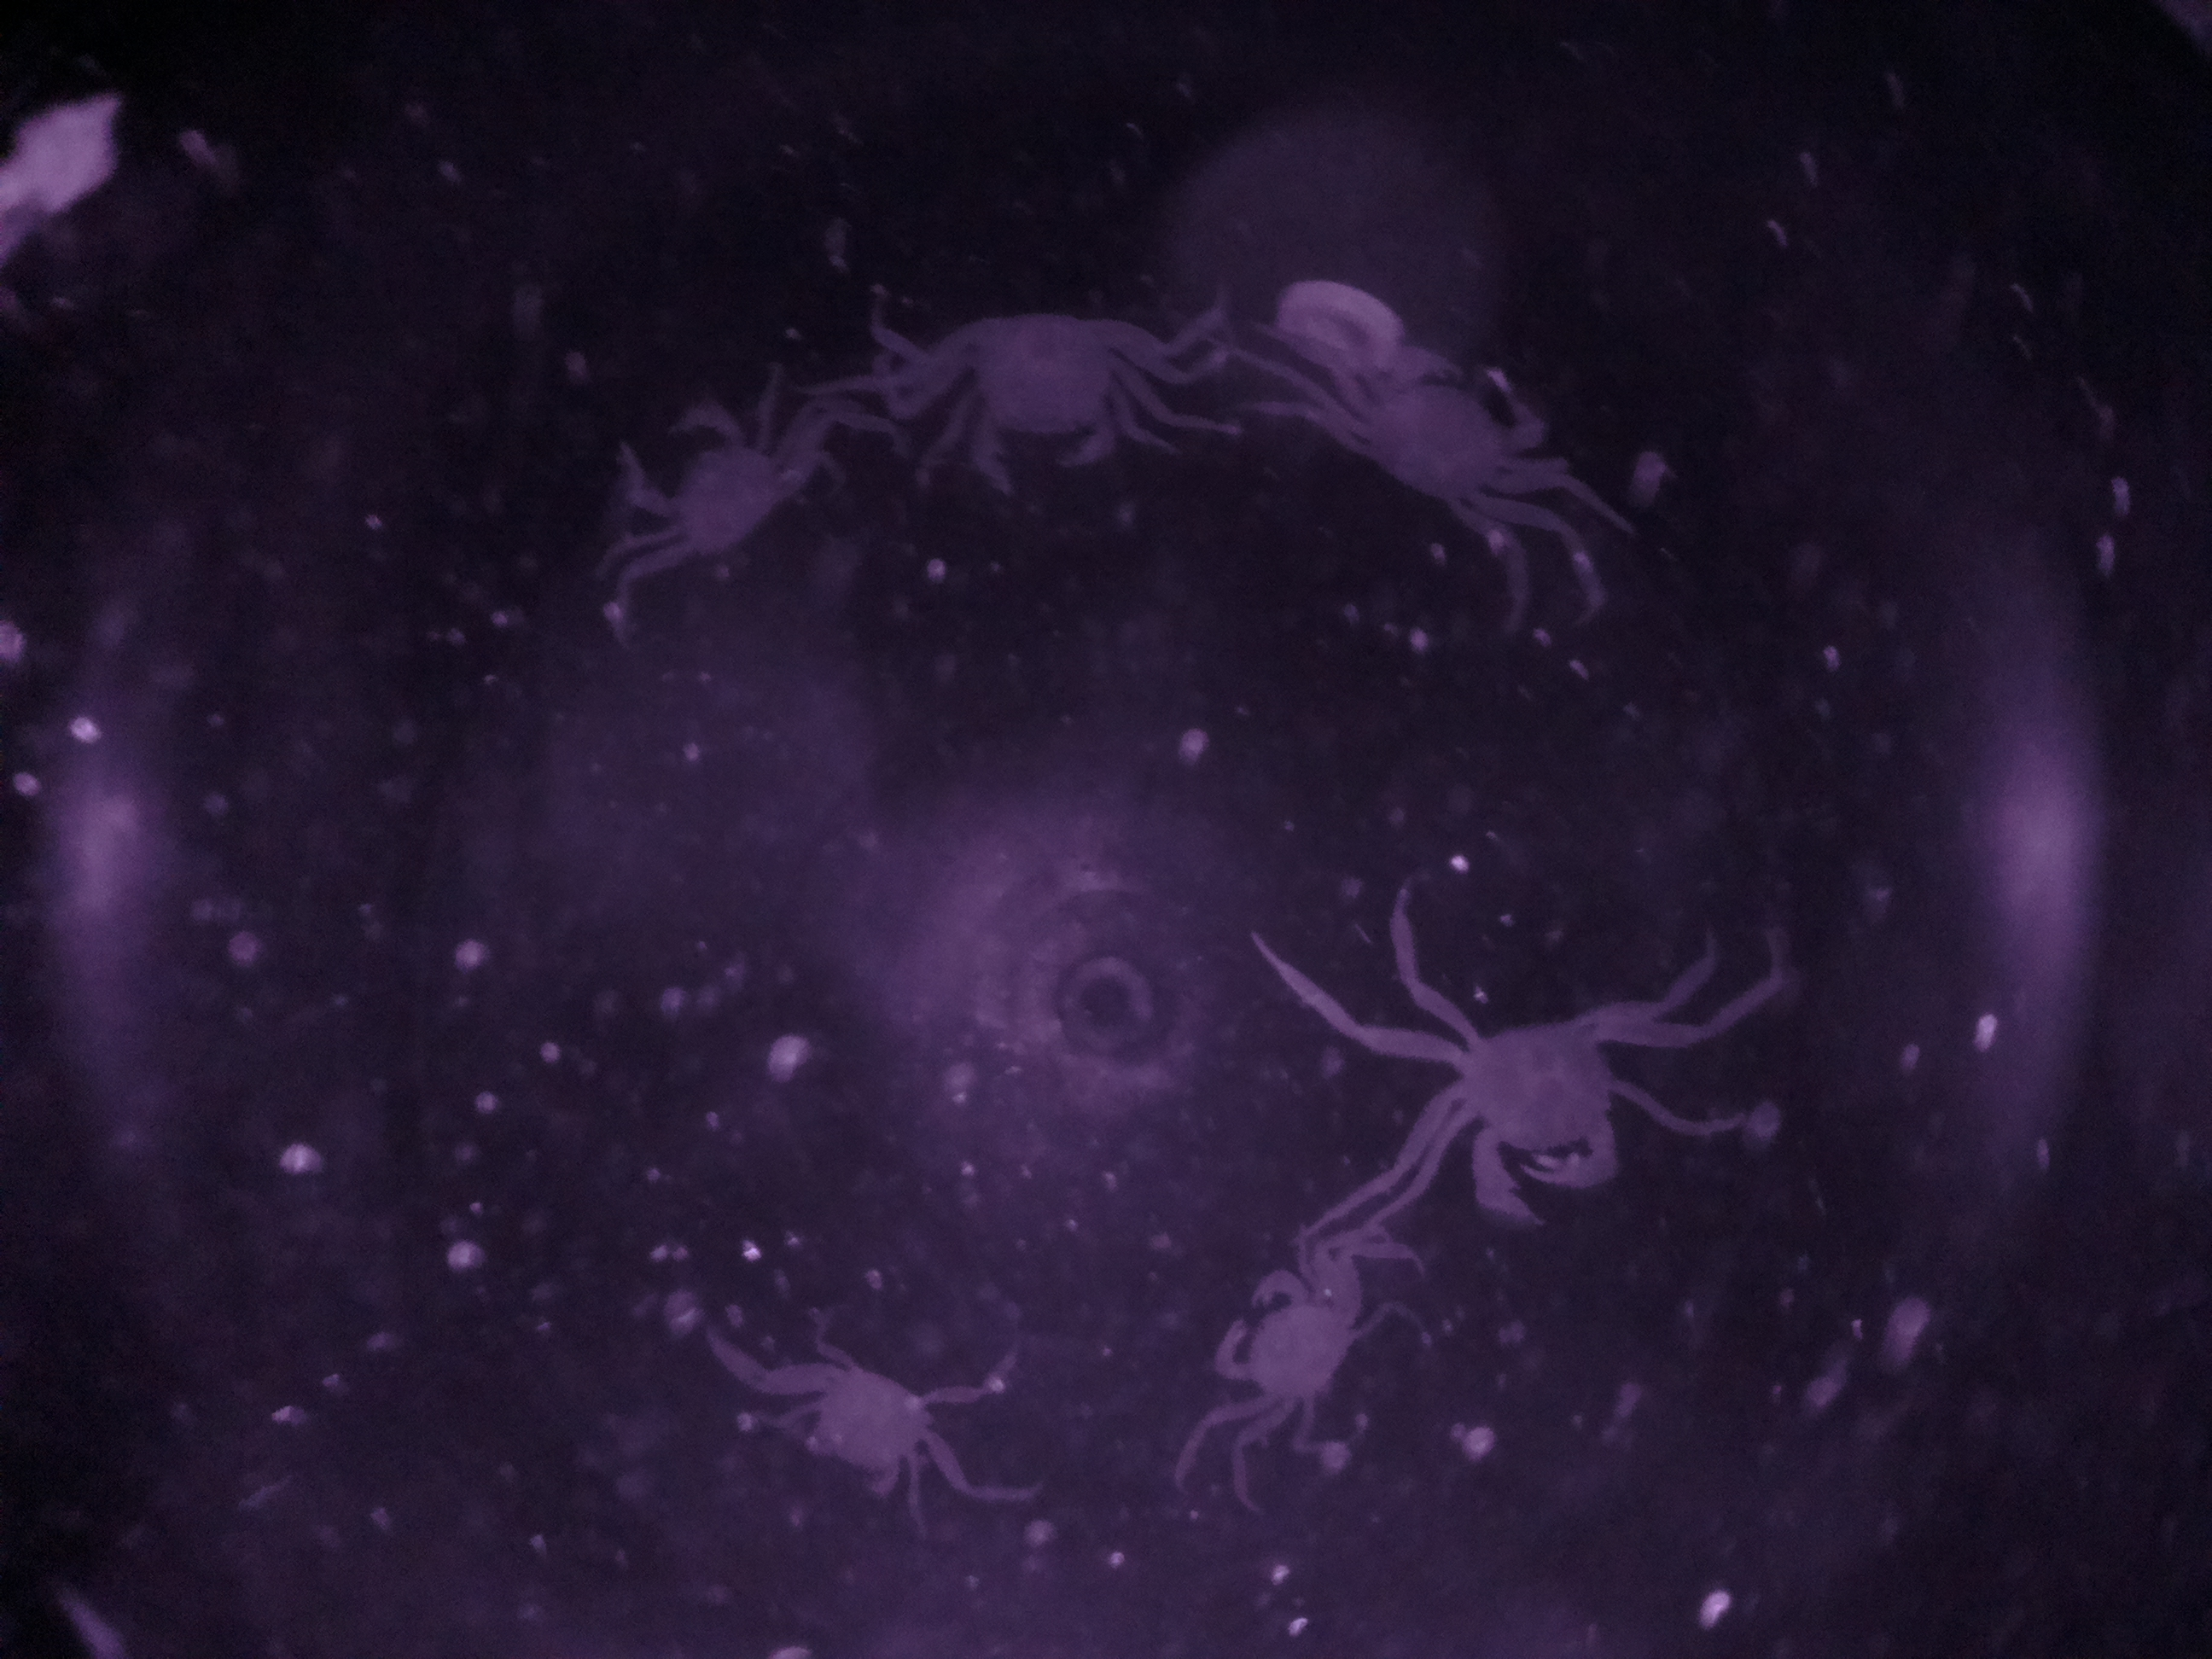Crab: (1376, 967, 1717, 1255), (887, 270, 1200, 525), (1305, 314, 1575, 563), (597, 383, 860, 603), (758, 1330, 981, 1523), (1191, 1249, 1407, 1434)
